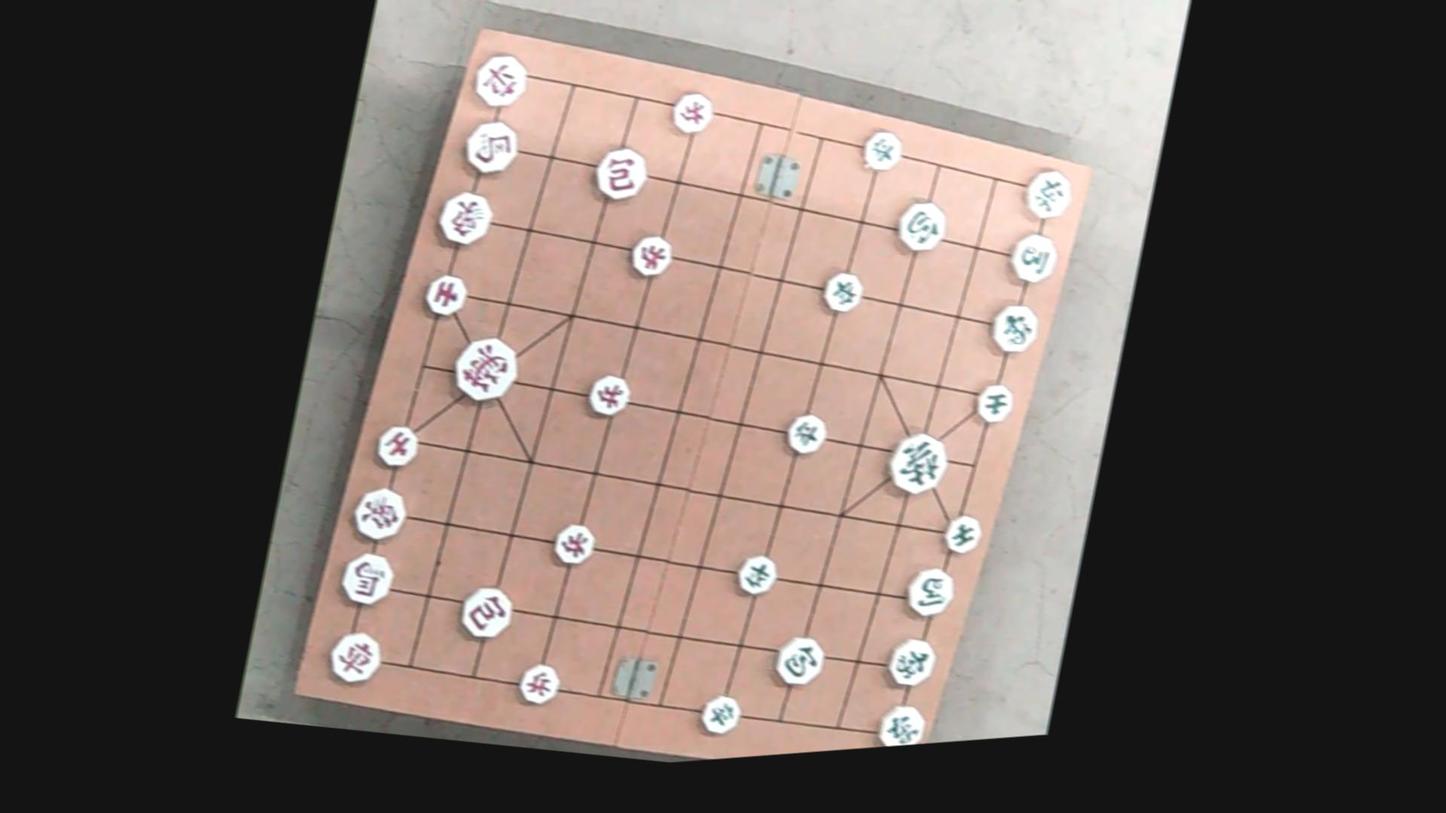cha_green: (1020, 164, 1076, 223), (874, 699, 928, 747)
cha_red: (324, 628, 384, 689), (471, 50, 529, 112)
jol_green: (821, 266, 866, 316), (782, 410, 827, 459), (734, 553, 779, 602), (860, 125, 905, 174), (700, 688, 743, 736)
jol_red: (514, 658, 561, 709), (627, 231, 673, 281), (552, 517, 597, 568), (670, 86, 715, 137), (584, 373, 630, 422)
ma_green: (898, 563, 958, 627), (1007, 230, 1059, 290)
ma_red: (460, 113, 523, 180), (337, 547, 395, 609)
po_green: (892, 195, 950, 257), (771, 633, 825, 691)
po_red: (591, 142, 649, 204), (458, 580, 515, 642)
sa_green: (939, 511, 982, 558), (975, 378, 1016, 425)
sa_red: (374, 422, 423, 473), (423, 267, 468, 318)
sang_green: (883, 632, 941, 690), (988, 297, 1041, 357)
sang_red: (436, 184, 499, 254), (347, 480, 409, 550)
wang_green: (885, 425, 950, 501)
wang_red: (450, 329, 521, 406)
